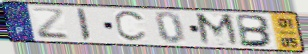0: (154, 10, 186, 45)
B: (235, 13, 275, 49)
C: (113, 10, 149, 43)
I: (75, 7, 93, 43)
M: (193, 11, 243, 48)
Z: (30, 7, 71, 41)
